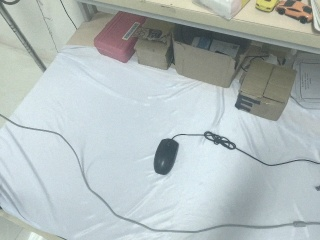box: (170, 25, 249, 89), (234, 59, 295, 122), (91, 9, 146, 65), (134, 18, 177, 71)
mouse: (152, 138, 180, 175)
toy_car: (276, 1, 314, 24), (254, 1, 287, 13)
